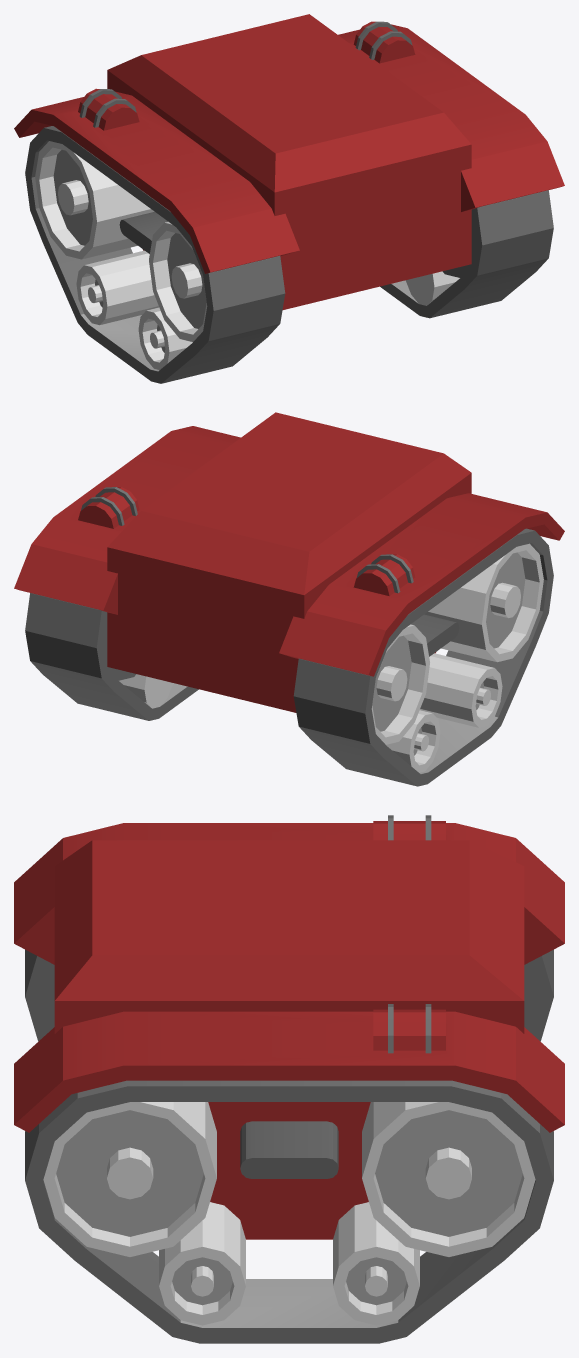
Rendered from EnemyTank.fbx.
3 renders of one model, top to bottom at view 1: azimuth 30°, elevation 25°; view 2: azimuth 150°, elevation 25°; view 3: azimuth 270°, elevation 25°, orthographic. The views are drawn at different scales.
Parts seen in each view (by area): view 1: Group1; view 2: Group1; view 3: Group1.
Part boxes in pixels (x1,y1,x2,y2): Group1: (14,14,564,383); Group1: (14,412,564,786); Group1: (14,815,564,1343).
Size of the model in its own units: 41.02 by 25.99 by 39.37.
